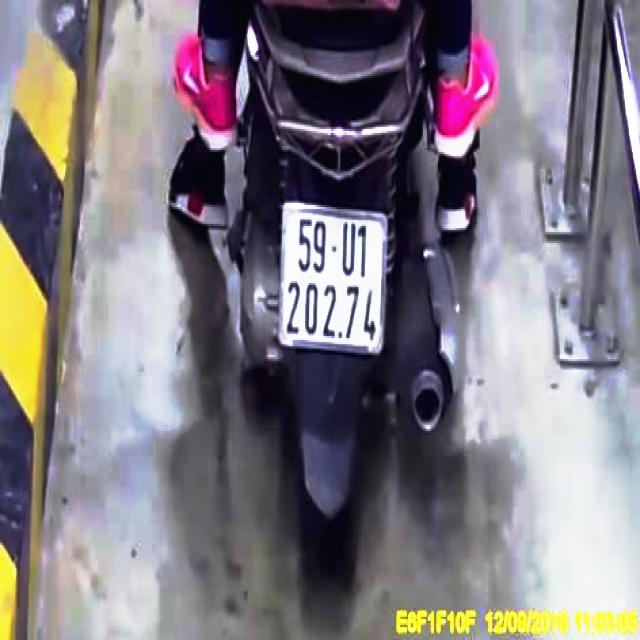license_plate: (280, 201, 391, 354)
